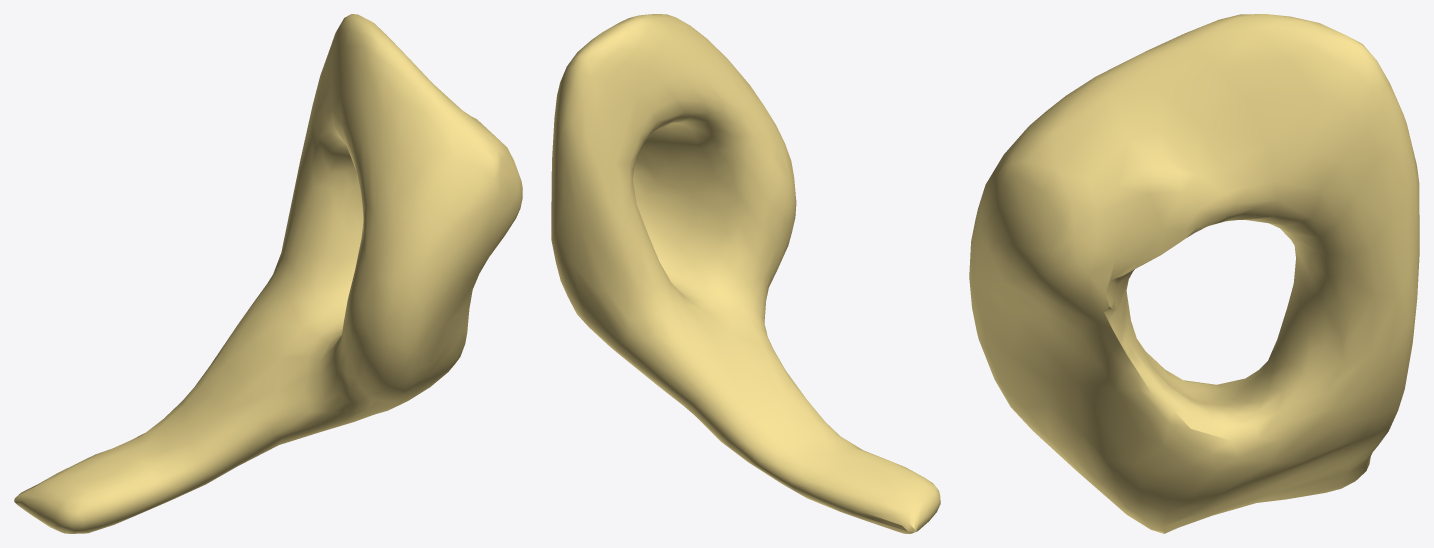
File: fma72898_mm3005m.glb
3 renders of one model, left to right at view 1: azimuth 30°, elevation 25°; view 2: azimuth 150°, elevation 25°; view 3: azimuth 270°, elevation 25°, orthographic. The views are drawn at different scales.
Visible parts, largest first — view 1: FMA72898_MM3005M; view 2: FMA72898_MM3005M; view 3: FMA72898_MM3005M.
Boxes of the visible parts, x1,y1,x2,y2 form: FMA72898_MM3005M: (14, 14, 522, 533); FMA72898_MM3005M: (551, 14, 940, 533); FMA72898_MM3005M: (969, 14, 1419, 533).
Size of the model in its own units: 0.0107 by 0.0108 by 0.00683.
